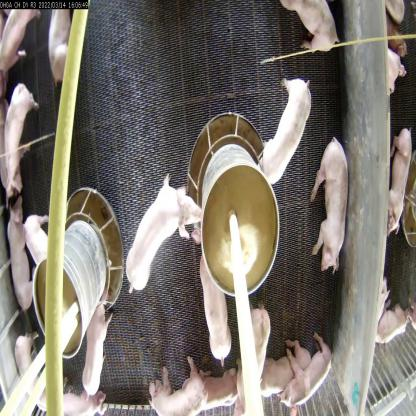Pig: (120, 168, 201, 300), (188, 220, 238, 364), (250, 71, 310, 189), (0, 77, 47, 206), (309, 130, 346, 275), (278, 325, 336, 411), (3, 185, 42, 308), (78, 292, 122, 396), (255, 335, 315, 408), (143, 350, 207, 416), (279, 0, 342, 61), (382, 121, 411, 240), (185, 352, 242, 412), (374, 289, 411, 343)
